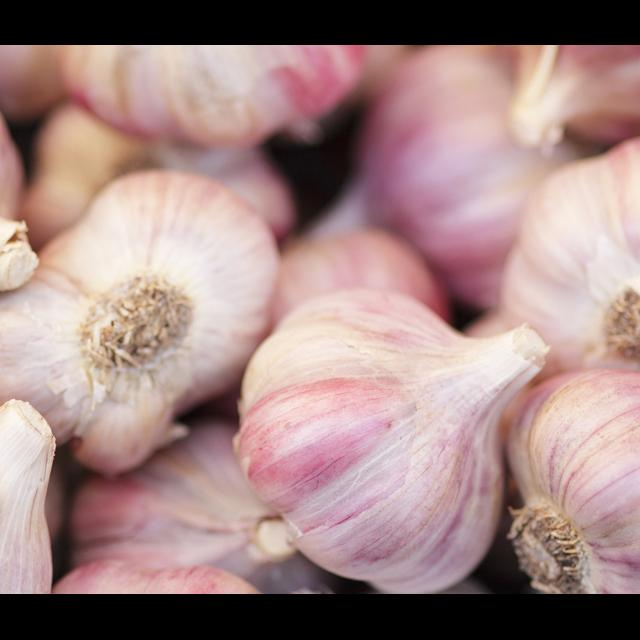garlic: (249, 291, 508, 588), (9, 174, 270, 419), (514, 364, 640, 594)
